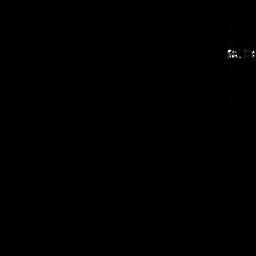ship: (225, 44, 256, 63)
